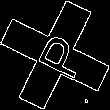P_NW: (24, 27, 86, 83)
